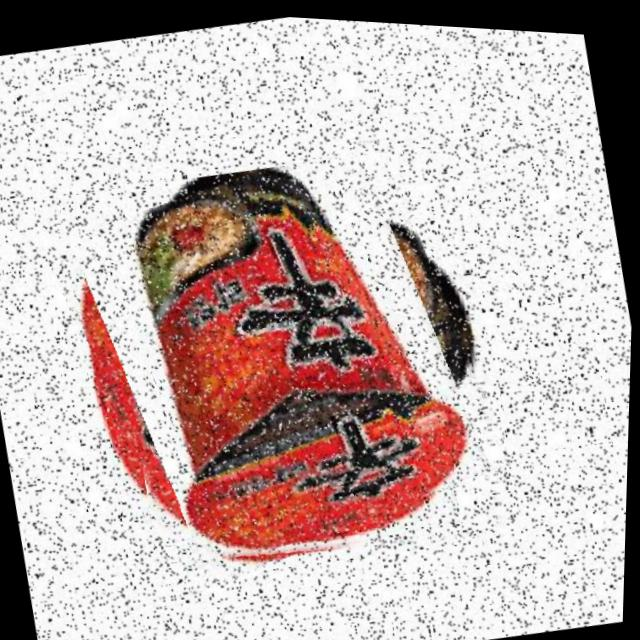Miscellaneous: (49, 120, 520, 602)
